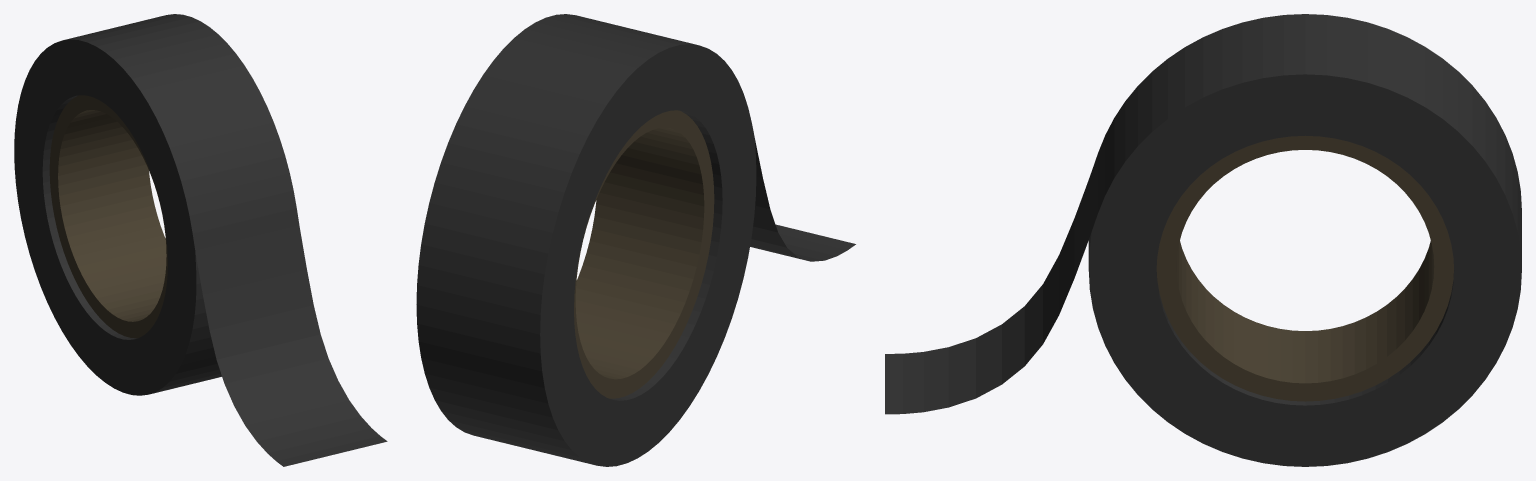
The model's file is koli bandı.glb.
3 renders of one model, left to right at view 1: azimuth 30°, elevation 25°; view 2: azimuth 150°, elevation 25°; view 3: azimuth 270°, elevation 25°, orthographic. The views are drawn at different scales.
Parts seen in each view (by area): view 1: Cylinder, Cylinder.001; view 2: Cylinder, Cylinder.001; view 3: Cylinder, Cylinder.001.
Part boxes in pixels (x1,y1,x2,y2): Cylinder: (14, 14, 387, 466); Cylinder.001: (49, 95, 167, 338); Cylinder: (416, 14, 855, 466); Cylinder.001: (574, 110, 714, 398); Cylinder: (885, 14, 1521, 466); Cylinder.001: (1156, 135, 1453, 401).
Size of the model in its own units: 0.6646 by 1.99 by 2.92.
